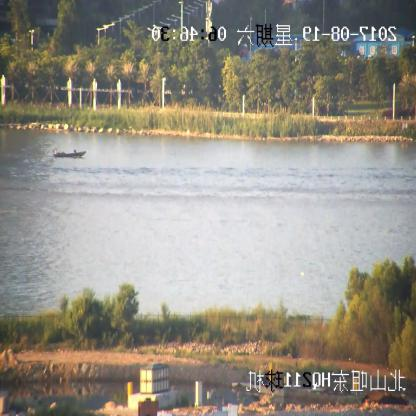Fishing Boat: (54, 148, 86, 160)
